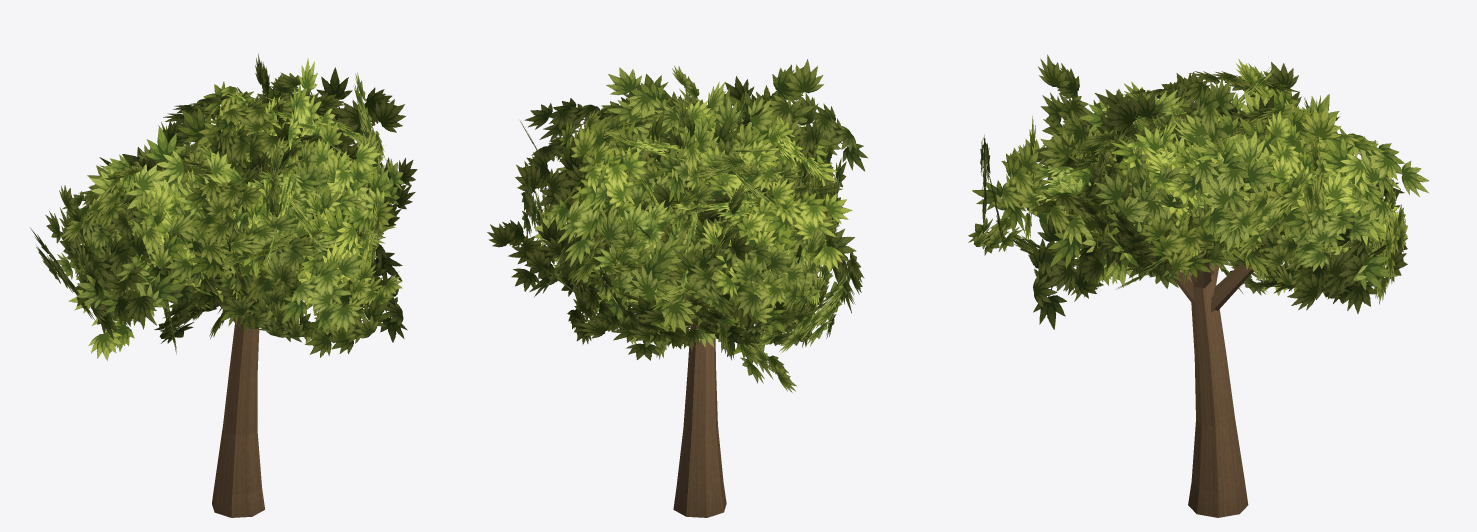
Rendered from tree_broad_a.glb.
3 renders of one model, left to right at view 1: azimuth 30°, elevation 25°; view 2: azimuth 150°, elevation 25°; view 3: azimuth 270°, elevation 25°, orthographic. The views are drawn at different scales.
Parts seen in each view (by area): view 1: tree_broad_a; view 2: tree_broad_a; view 3: tree_broad_a.
Part boxes in pixels (x1,y1,x2,y2): tree_broad_a: (30, 53, 417, 517); tree_broad_a: (487, 59, 867, 517); tree_broad_a: (968, 54, 1429, 517).
Bounding box in the file's own units: 5.56 × 6.16 × 5.96.
Materials: 2 (2 with a texture image).
